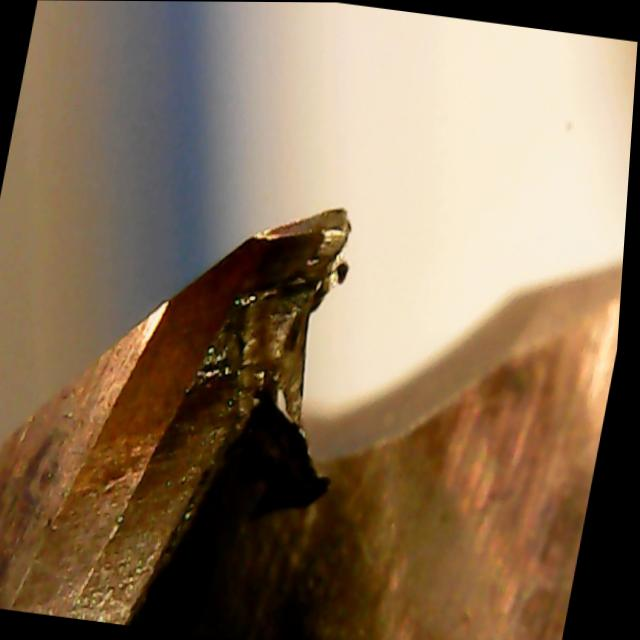Tool-wear-class-3: (113, 141, 385, 457)
